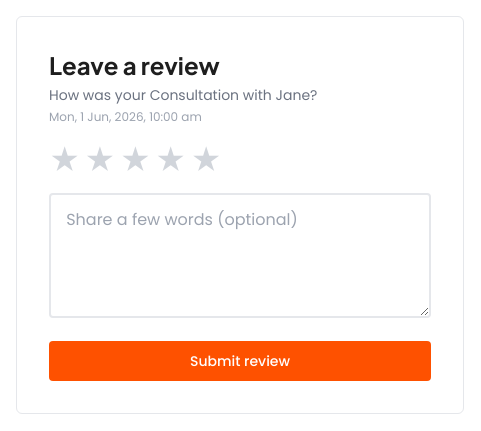
Test: renders the form for a completed, unreviewed booking and submits with the right payload
This screenshot has width=481, height=431.
Expected: the heading "Leave a review" is shown, [49,50,220,80]
Expected: the text "How was your Consultation with Jane?" is shown, [49,85,317,105]
What coordinates should you click on to do the following:
click the button named "Rate 5 stars"
I would click on:
 (206, 161)
Its box is [190,141,222,181].
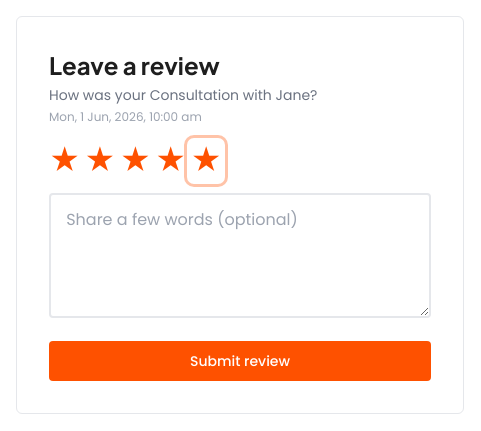
What coordinates should you click on to do the following:
click the button "Submit review"
I would click on:
 (240, 361)
Its box is [49,341,431,381].
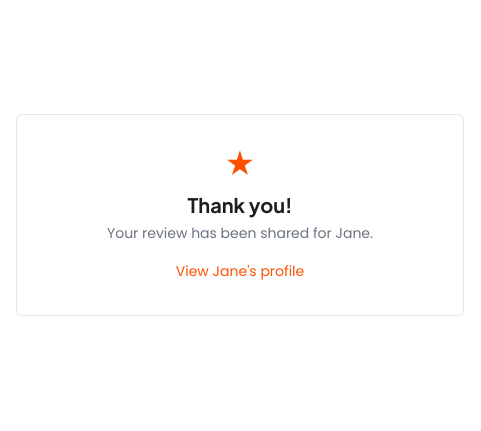
Now the heading "Thank you!" is shown, box [187,192,292,217]
